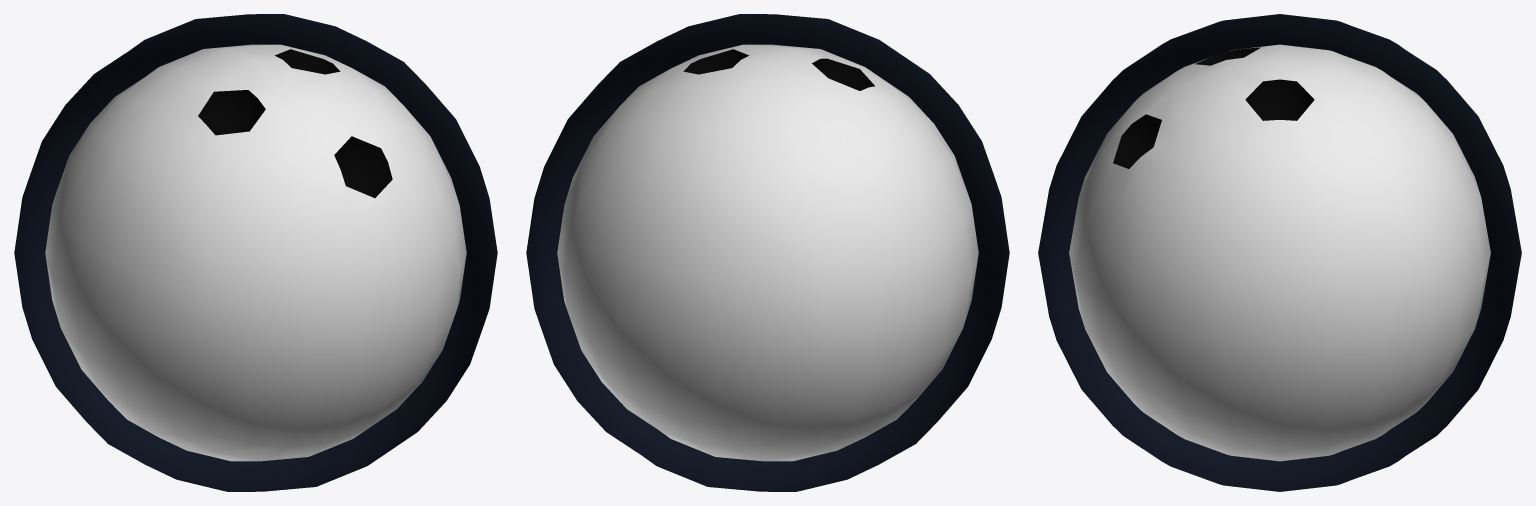
The model's file is Ball.fbx.
The picture shows the model from 3 angles, left to right: view 1: azimuth 30°, elevation 25°; view 2: azimuth 150°, elevation 25°; view 3: azimuth 270°, elevation 25°; orthographic projection.
Parts seen in each view (by area): view 1: m_Ball, m_BallOutline; view 2: m_Ball, m_BallOutline; view 3: m_Ball, m_BallOutline.
Boxes of the visible parts, box(x1,y1,x2,y2) form: m_Ball: box(45, 44, 466, 461); m_BallOutline: box(14, 14, 497, 491); m_Ball: box(557, 44, 978, 461); m_BallOutline: box(526, 14, 1009, 491); m_Ball: box(1069, 44, 1490, 461); m_BallOutline: box(1038, 14, 1521, 491).
Bounding box in the file's own units: 3.97 × 3.97 × 3.97.
